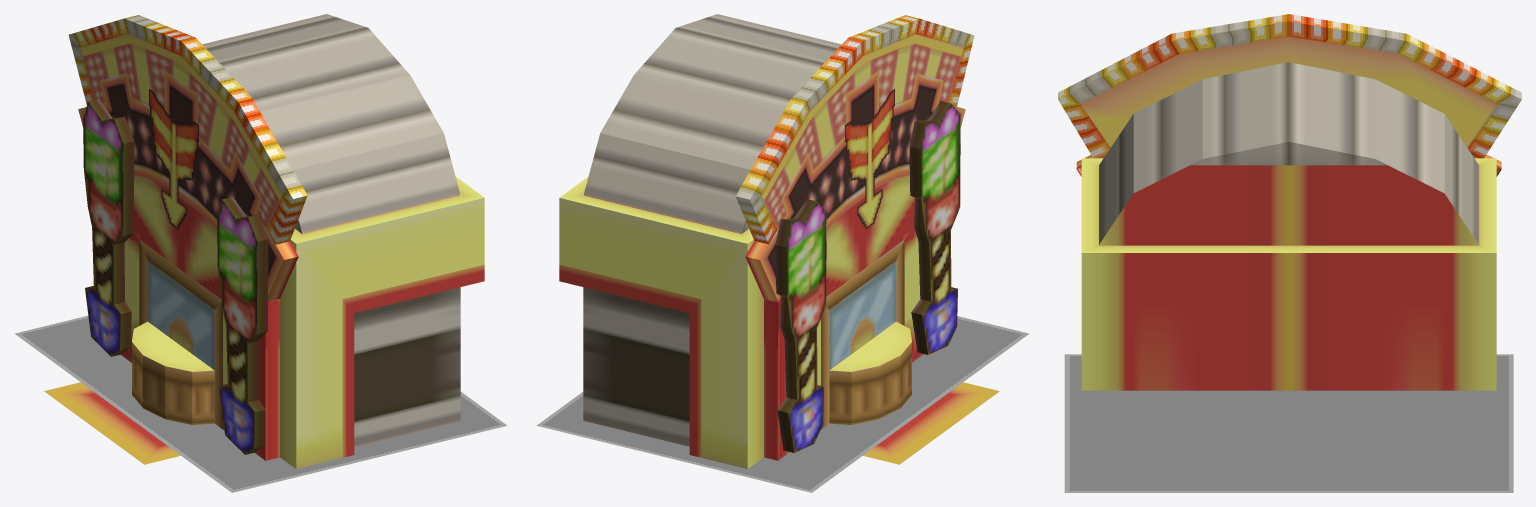
3 views of the same model, side by side, from view 1: azimuth 30°, elevation 25°; view 2: azimuth 150°, elevation 25°; view 3: azimuth 270°, elevation 25° (orthographic). The views are drawn at different scales.
Parts seen in each view (by area): view 1: polygon0, polygon2, polygon1; view 2: polygon0, polygon2, polygon1; view 3: polygon0, polygon2, polygon1.
Part boxes in pixels (x1,y1,x2,y2): polygon0: (44,14,484,468); polygon2: (15,315,507,492); polygon1: (68,15,307,244); polygon0: (559,14,999,468); polygon2: (536,316,1028,492); polygon1: (735,15,974,244); polygon0: (1076,36,1501,390); polygon2: (1064,354,1513,492); polygon1: (1058,14,1521,158).
Bounding box in the file's own units: 5.25 × 6.02 × 6.71.
3 materials, 3 textured.
